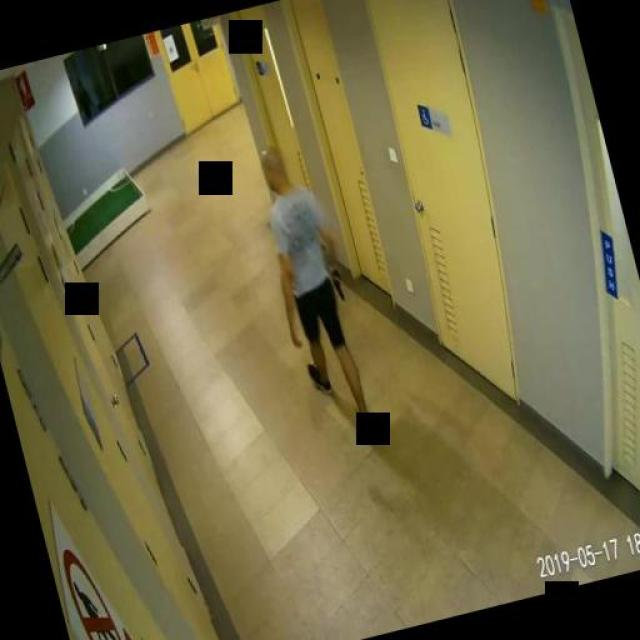gun: (326, 262, 345, 302)
